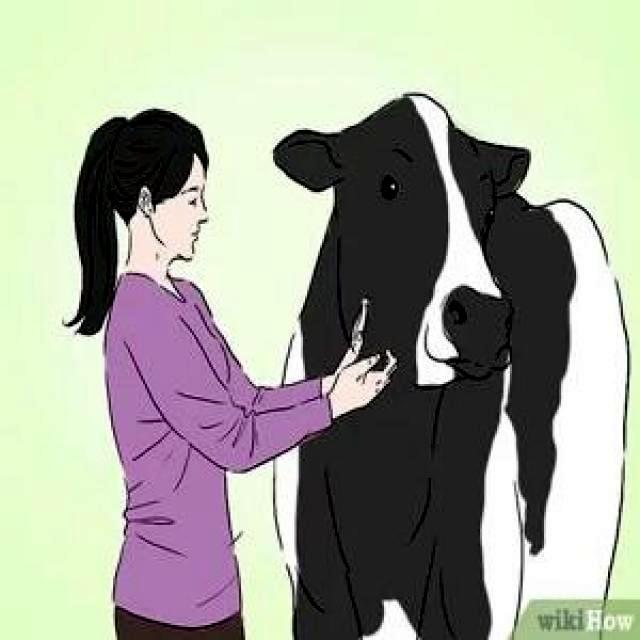COW: (274, 94, 629, 640)
